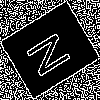N: (24, 25, 81, 81)
